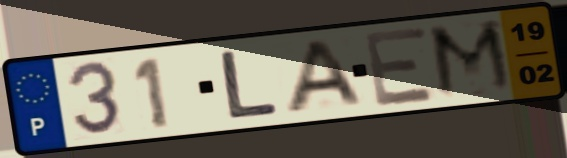1: (131, 56, 171, 131)
3: (62, 58, 125, 141)
A: (281, 37, 369, 116)
E: (360, 23, 440, 109)
L: (216, 48, 282, 121)
M: (425, 16, 520, 102)
